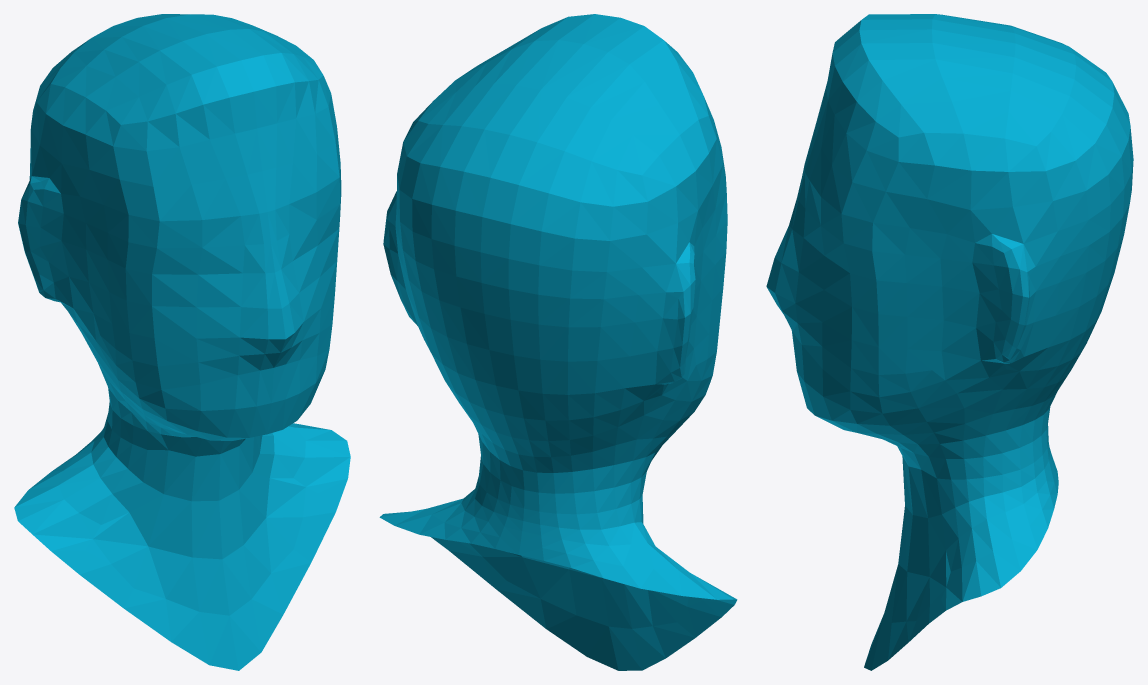
The model's file is head.dae.
The picture shows the model from 3 angles, left to right: view 1: azimuth 30°, elevation 25°; view 2: azimuth 150°, elevation 25°; view 3: azimuth 270°, elevation 25°; orthographic projection. The views are drawn at different scales.
Parts seen in each view (by area): view 1: Cube; view 2: Cube; view 3: Cube.
Part boxes in pixels (<box>): Cube: <box>14,14,350,670</box>; Cube: <box>379,14,737,670</box>; Cube: <box>766,14,1133,670</box>.
Size of the model in its own units: 1.79 by 1.66 by 3.18.
